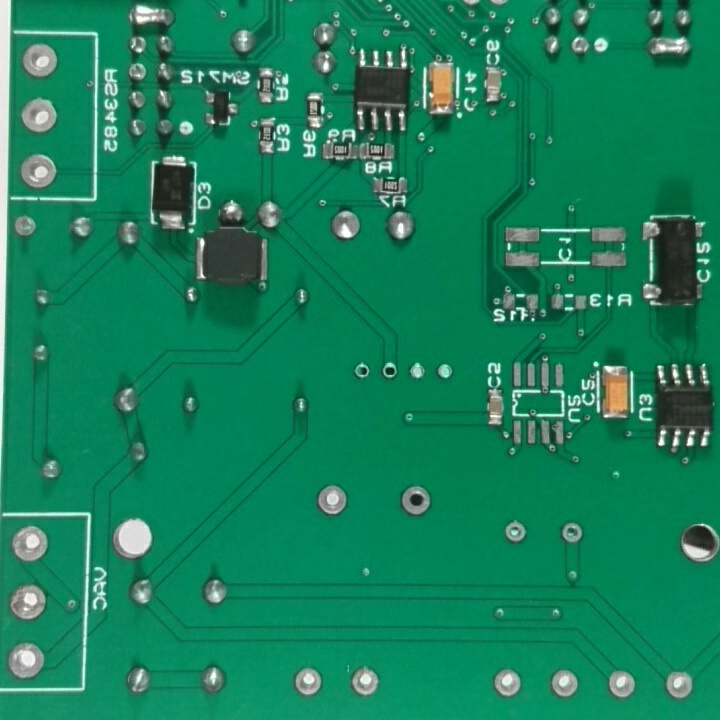F: (7, 520, 51, 566), (16, 150, 62, 192), (7, 640, 48, 684), (7, 580, 47, 624), (19, 40, 64, 79), (20, 95, 61, 136), (289, 663, 327, 701), (545, 664, 583, 702), (397, 481, 434, 519), (490, 664, 526, 702), (315, 483, 350, 522), (602, 666, 641, 700), (344, 666, 382, 699), (664, 669, 699, 703), (8, 213, 39, 241), (559, 520, 587, 548), (401, 359, 429, 385), (504, 516, 527, 547), (125, 56, 148, 82), (378, 360, 401, 381), (433, 361, 456, 382), (573, 35, 593, 58), (350, 360, 373, 379)
P: (124, 4, 179, 32), (642, 34, 696, 60)
